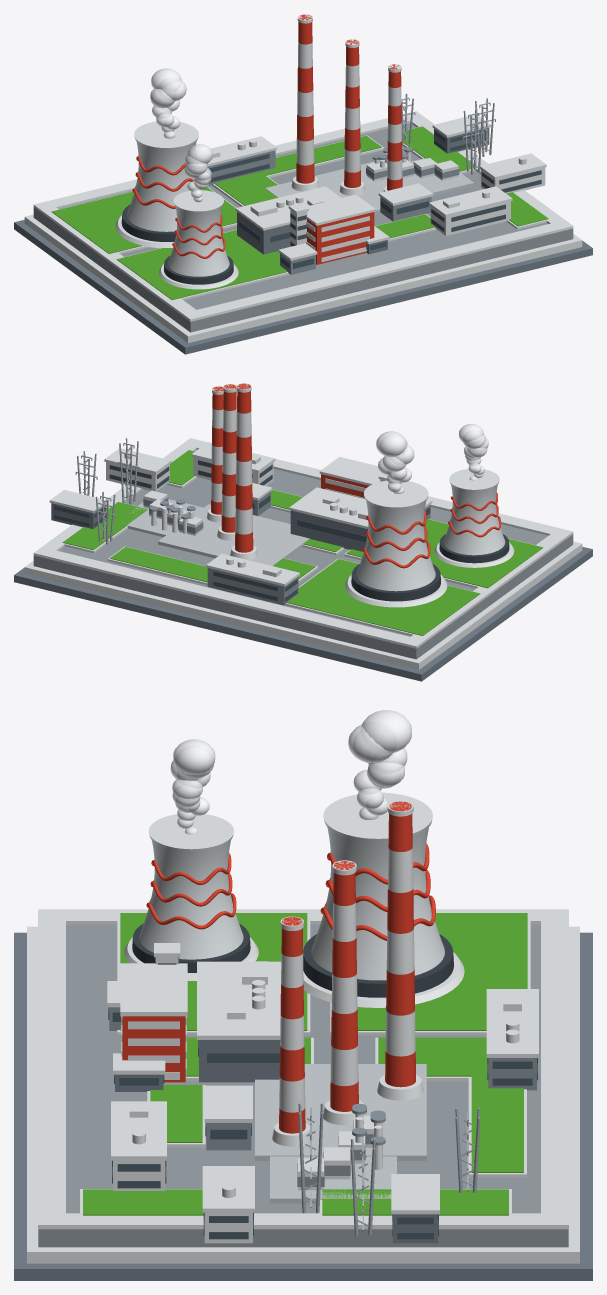
The model's file is power-plant.glb.
The picture shows the model from 3 angles, top to bottom: view 1: azimuth 30°, elevation 25°; view 2: azimuth 150°, elevation 25°; view 3: azimuth 270°, elevation 25°; orthographic projection. The views are drawn at different scales.
Visible parts, largest first — view 1: plate_top, plate_lower, plate_mid, plate_rim_s, cooling_tower_large_shell, lawn_1, lawn_0, cooling_tower_small_shell, chimney_tall, chimney_mid, plate_rim_n, chimney_short (+40 smaller); view 2: plate_top, plate_lower, plate_mid, lawn_0, cooling_tower_large_shell, plate_rim_n, pad_chimneys, cooling_tower_small_shell, chimney_tall, lawn_1, chimney_mid, smoke_large (+39 smaller); view 3: plate_top, plate_lower, plate_mid, lawn_0, plate_rim_s, plate_rim_n, pad_chimneys, cooling_tower_large_shell, cooling_tower_small_shell, chimney_tall, chimney_mid, plate_rim_e (+42 smaller).
Part boxes in pixels (bbox=[...]): plate_top: bbox=[33, 123, 573, 332]; plate_lower: bbox=[14, 219, 592, 354]; plate_mid: bbox=[24, 214, 582, 342]; plate_rim_s: bbox=[183, 223, 573, 321]; cooling_tower_large_shell: bbox=[127, 141, 196, 231]; lawn_1: bbox=[116, 230, 287, 299]; lawn_0: bbox=[51, 186, 236, 253]; cooling_tower_small_shell: bbox=[168, 206, 229, 276]; chimney_tall: bbox=[296, 14, 314, 183]; chimney_mid: bbox=[344, 39, 360, 187]; plate_rim_n: bbox=[36, 111, 424, 210]; chimney_short: bbox=[387, 64, 402, 190]; plate_top: bbox=[33, 450, 573, 659]; plate_lower: bbox=[14, 546, 592, 681]; plate_mid: bbox=[24, 541, 582, 669]; lawn_0: bbox=[287, 559, 480, 635]; cooling_tower_large_shell: bbox=[356, 501, 435, 591]; plate_rim_n: bbox=[33, 547, 424, 648]; pad_chimneys: bbox=[158, 504, 309, 565]; cooling_tower_small_shell: bbox=[443, 485, 505, 555]; chimney_tall: bbox=[235, 383, 253, 552]; lawn_1: bbox=[346, 519, 543, 588]; chimney_mid: bbox=[221, 384, 236, 532]; smoke_large: bbox=[376, 431, 414, 493]; plate_top: bbox=[38, 924, 568, 1247]; plate_lower: bbox=[14, 932, 592, 1280]; plate_mid: bbox=[27, 926, 579, 1263]; lawn_0: bbox=[357, 913, 527, 1030]; plate_rim_s: bbox=[38, 909, 65, 1228]; plate_rim_n: bbox=[541, 909, 568, 1228]; pad_chimneys: bbox=[255, 1064, 426, 1160]; cooling_tower_large_shell: bbox=[311, 827, 444, 980]; cooling_tower_small_shell: bbox=[139, 840, 243, 959]; chimney_tall: bbox=[385, 801, 415, 1087]; chimney_mid: bbox=[330, 861, 358, 1111]; plate_rim_e: bbox=[38, 1213, 568, 1229].
Bounding box in the file's own units: 2.18 × 0.9795 × 1.55.
